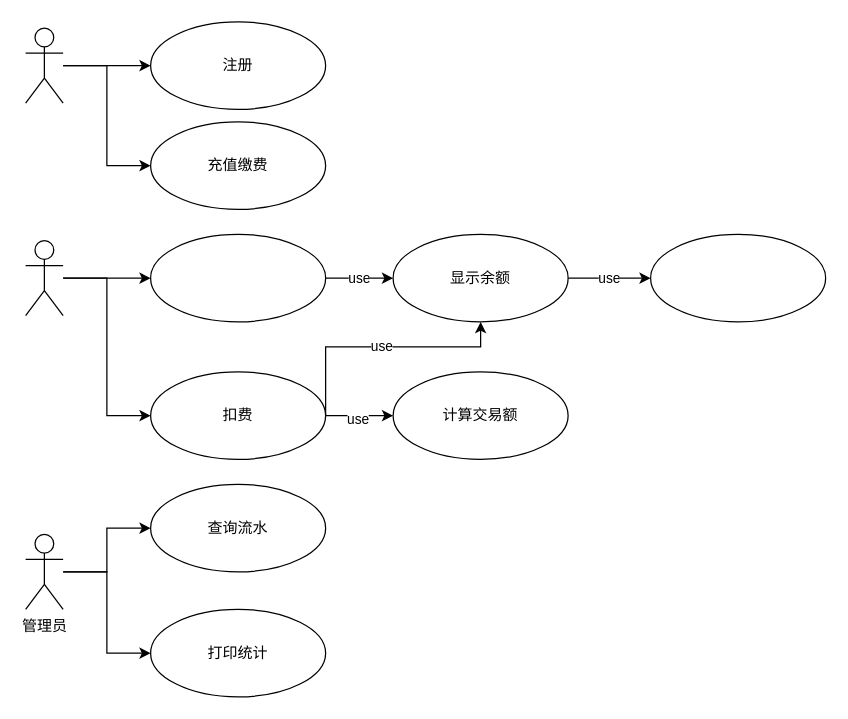
The diagram is 848 pixels wide and 719 high, and some of its shapes have lost their labels. Each missing label, with the box of its shape:
学生: (24, 27, 63, 103)
插卡: (149, 233, 326, 322)
收款机: (24, 239, 63, 316)
查询余额: (649, 233, 826, 322)
